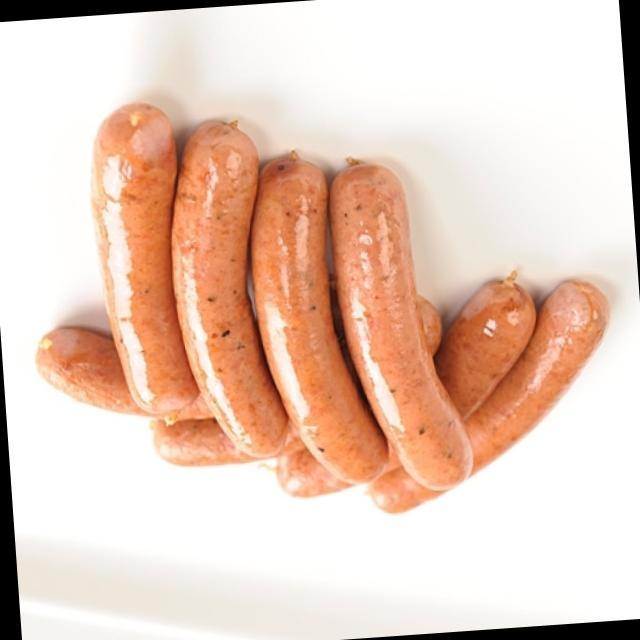Sausage: (6, 65, 634, 544)
